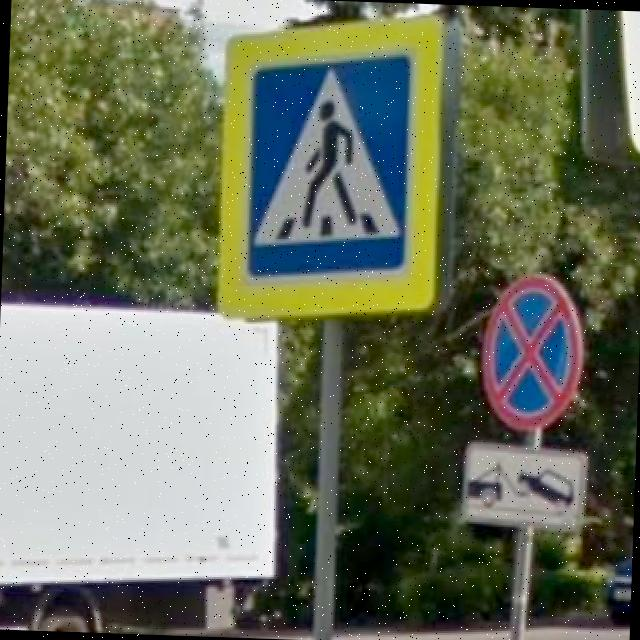Przejscie dla pieszych: (214, 4, 446, 327)
Zakaz zatrzymywania sie: (478, 268, 584, 431)
